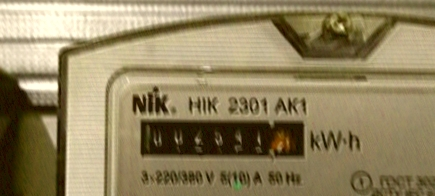0: (152, 126, 166, 147), (173, 125, 186, 146)
1: (254, 124, 266, 147)
2: (193, 124, 208, 146)
4: (234, 124, 246, 145)
5: (213, 124, 227, 148)
6: (276, 140, 287, 153)
screen: (129, 110, 319, 167)
